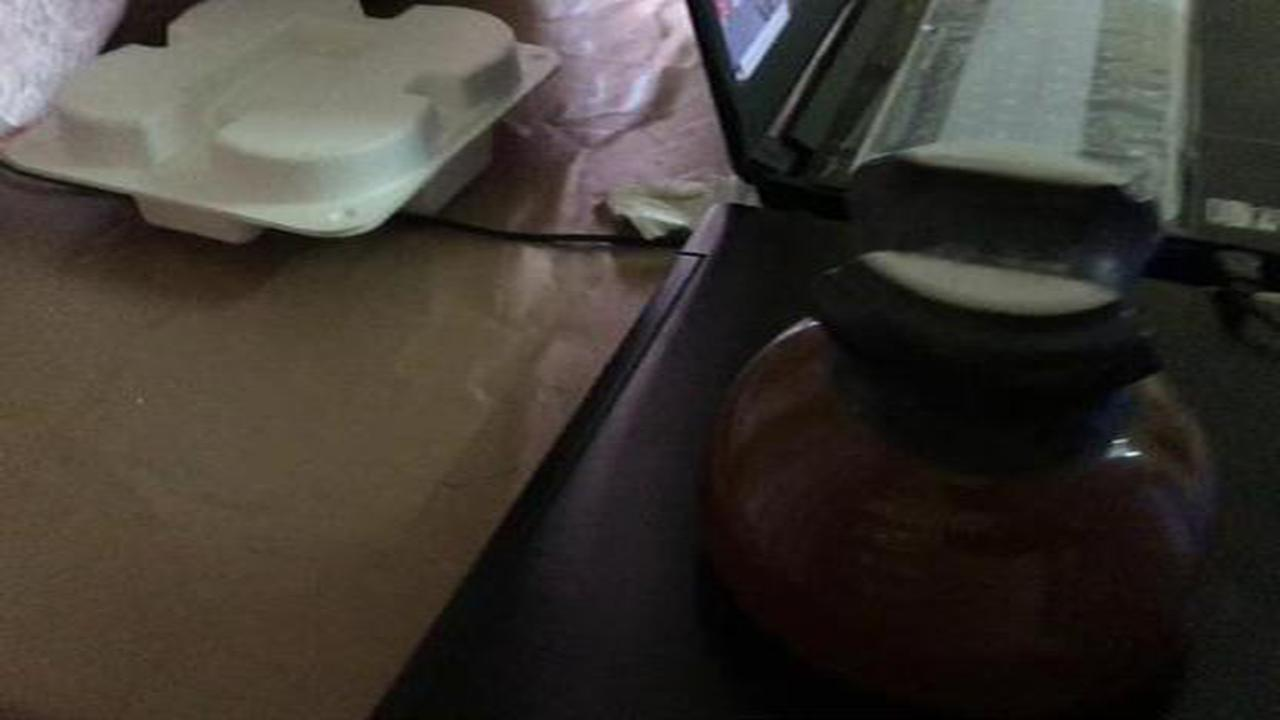insulator_pin: (687, 135, 1253, 682)
